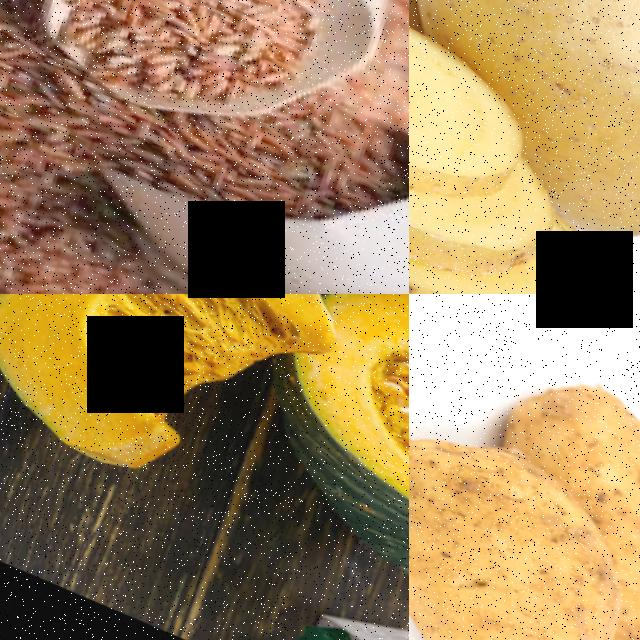potato: (409, 384, 640, 640), (409, 126, 640, 294), (409, 0, 640, 150), (493, 344, 640, 523)
pumpkin: (0, 294, 347, 540), (251, 294, 409, 621)
red rice: (64, 0, 322, 126)
